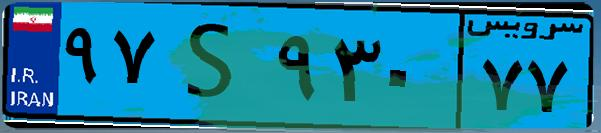0: (385, 28, 445, 110)
3: (330, 28, 385, 110)
7: (475, 38, 525, 113), (525, 38, 570, 115), (110, 28, 158, 98)
9: (270, 28, 330, 110), (57, 26, 110, 100)
S: (158, 12, 270, 120)
